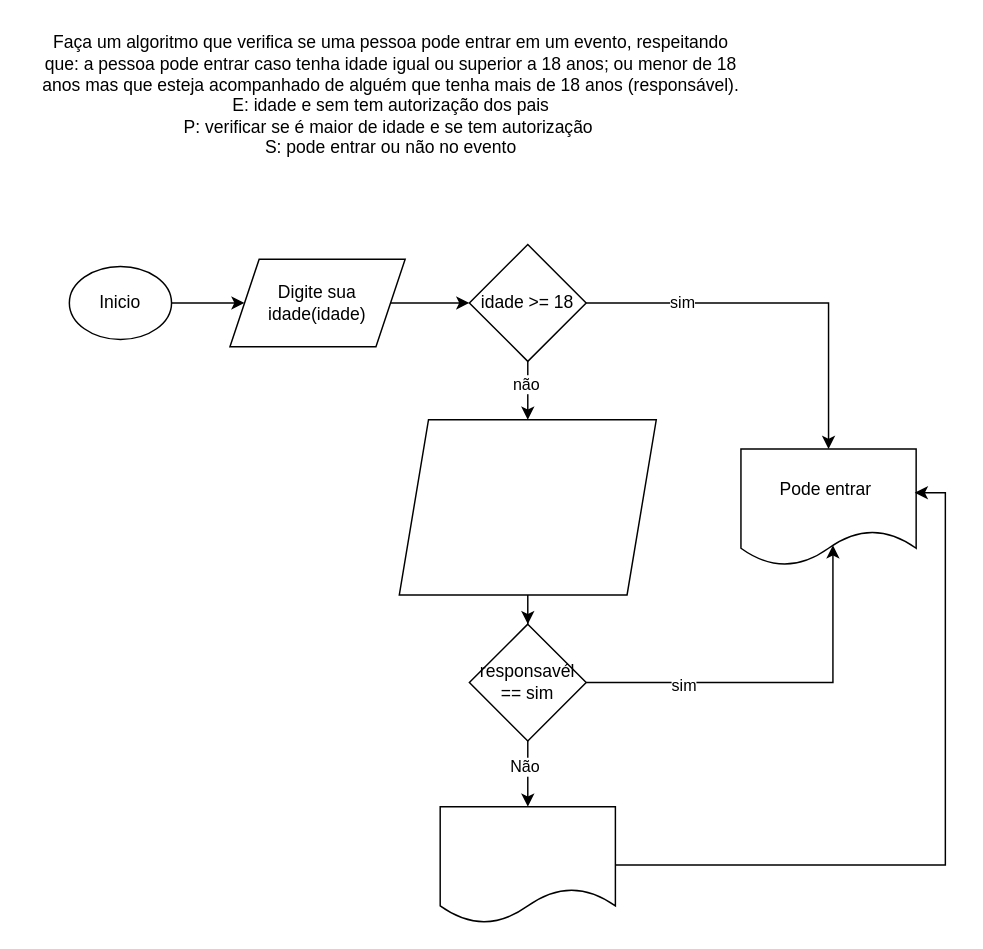
Some shapes in this 983 by 949 pixel diagram are drawn without their labels. Each missing label, with the centre of its shape:
Está acompanhado do responsável, escreva sim ou não(responsavel): the point at 527,506
Não pode entrar: the point at 527,864
